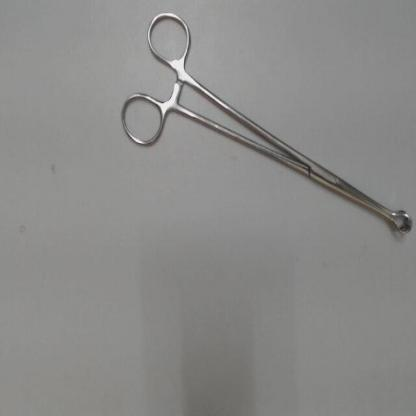8 Babcock Tissue Forceps: (116, 5, 415, 242)
